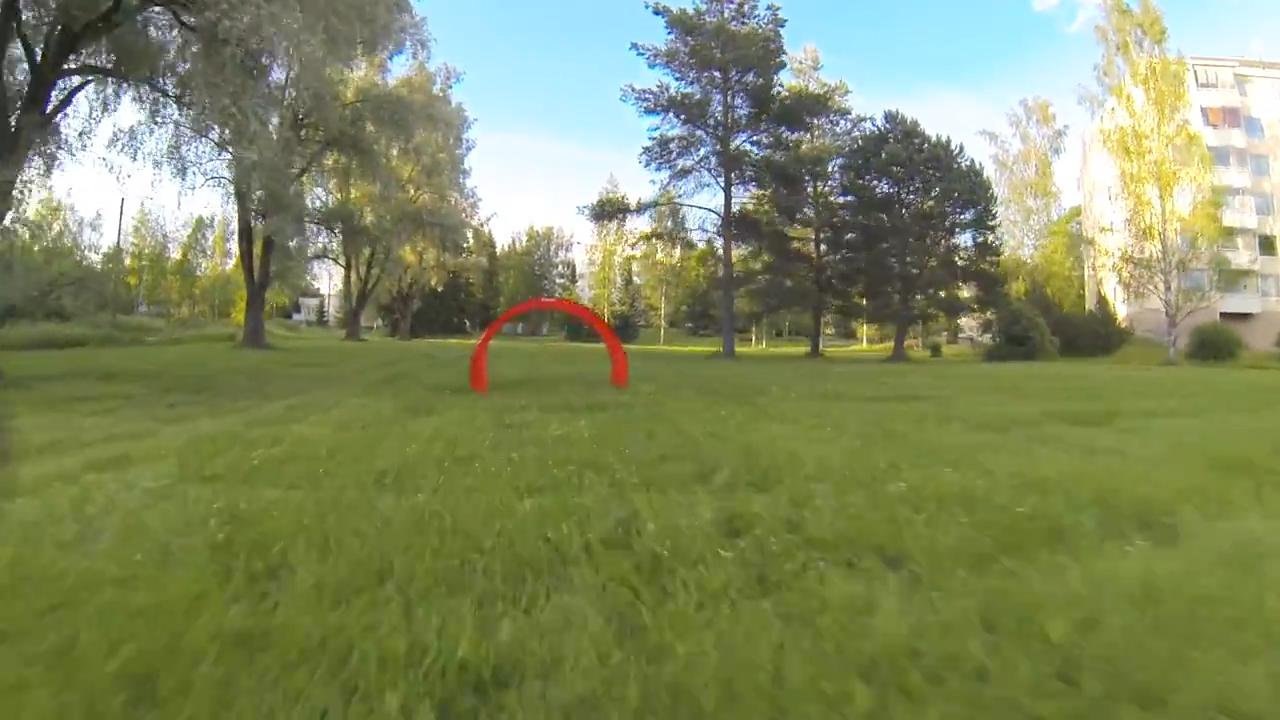gate: (467, 296, 640, 394)
